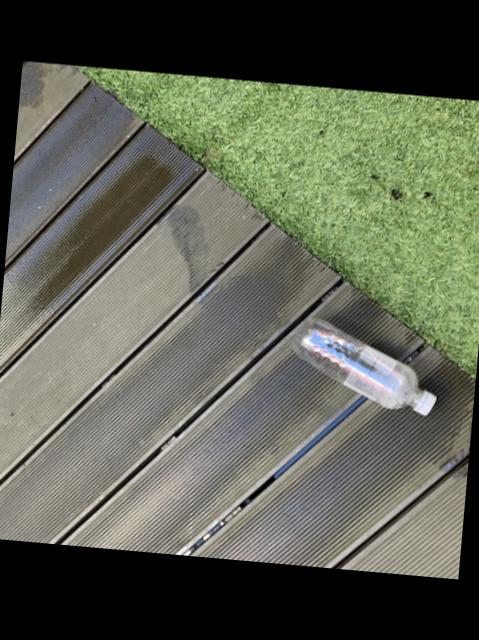plastic: (289, 318, 434, 416)
